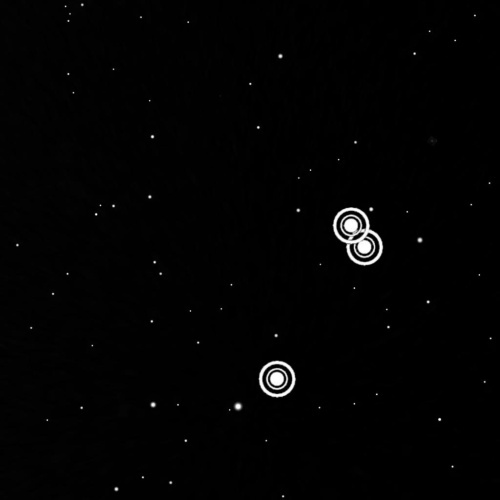canis_minor: (249, 199, 397, 406)
